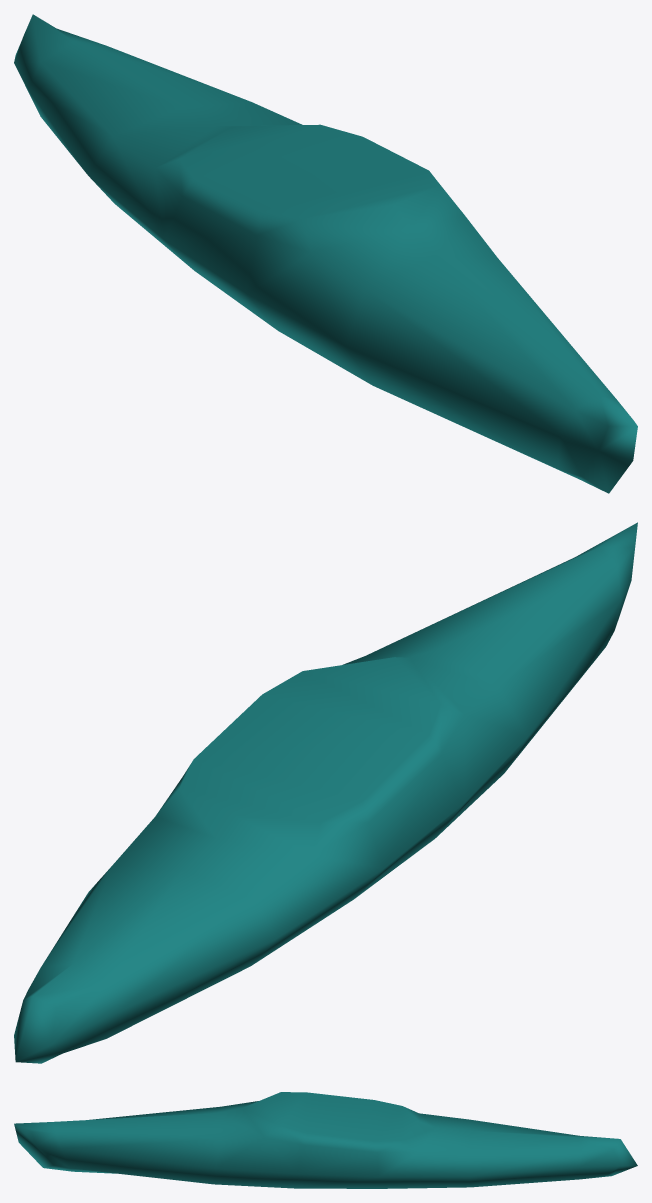
File: kayak_collider.fbx
The picture shows the model from 3 angles, top to bottom: view 1: azimuth 30°, elevation 25°; view 2: azimuth 150°, elevation 25°; view 3: azimuth 270°, elevation 25°; orthographic projection. The views are drawn at different scales.
Visible parts, largest first — view 1: kayak_collider; view 2: kayak_collider; view 3: kayak_collider.
Part boxes in pixels (x1,y1,x2,y2): kayak_collider: (14,14,637,493); kayak_collider: (14,522,637,1063); kayak_collider: (14,1092,637,1188).
Bounding box in the file's own units: 44.8 × 30.4 × 220.
